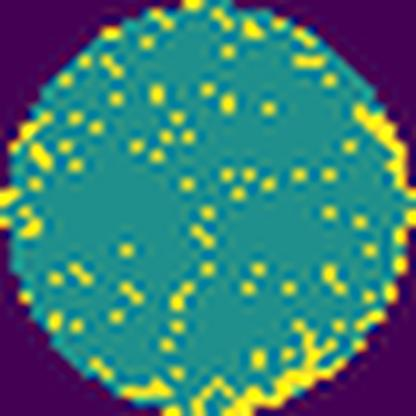Edge-Loc: (188, 318, 352, 416), (355, 94, 416, 200)
